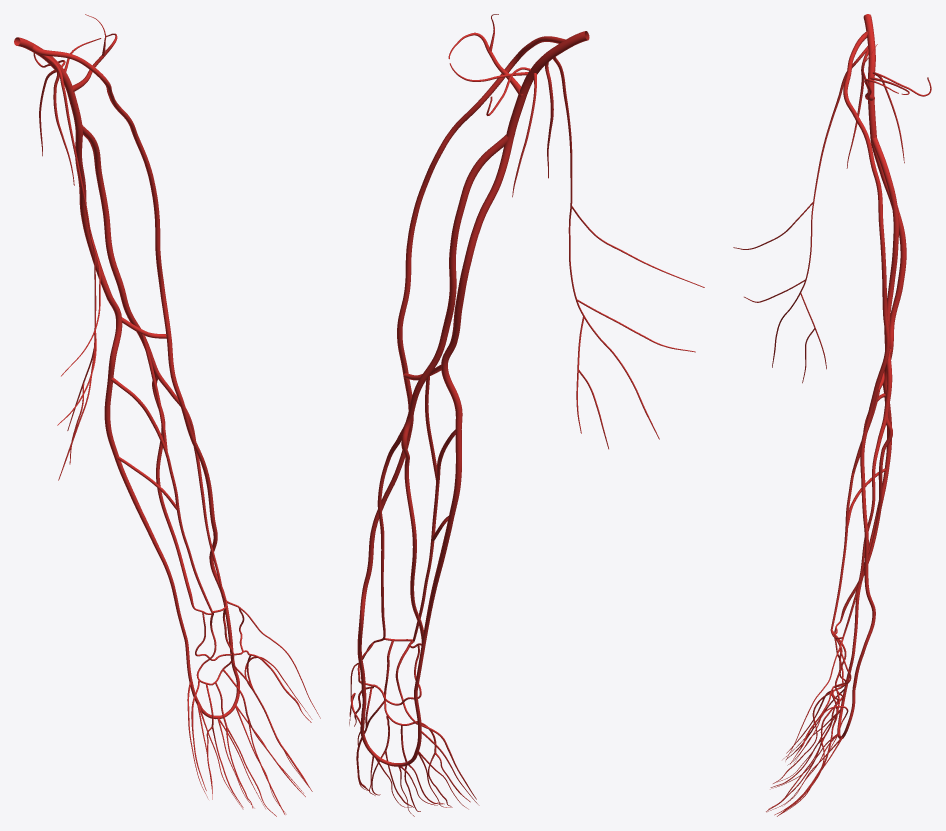
File: circulatorio-axillary-vein-l.glb
3 renders of one model, left to right at view 1: azimuth 30°, elevation 25°; view 2: azimuth 150°, elevation 25°; view 3: azimuth 270°, elevation 25°, orthographic. The views are drawn at different scales.
Visible parts, largest first — view 1: Cephalic vein.l, Basilic vein.l, Palmar digital veins.l, Lateral thoracic vein.l, Brachial veins.l, Dorsal digital veins of hand.l, Median antebrachial vein.l, Ulnar veins.l, Radial veins.l, Axillary vein.l, Median cubital vein.l, Dorsal venous network of hand.l; view 2: Cephalic vein.l, Basilic vein.l, Brachial veins.l, Lateral thoracic vein.l, Palmar digital veins.l, Axillary vein.l, Ulnar veins.l, Dorsal digital veins of hand.l, Median antebrachial vein.l, Radial veins.l, Dorsal venous network of hand.l; view 3: Cephalic vein.l, Basilic vein.l, Brachial veins.l, Palmar digital veins.l, Lateral thoracic vein.l, Dorsal digital veins of hand.l, Axillary vein.l, Ulnar veins.l, Median antebrachial vein.l, Radial veins.l, Dorsal venous network of hand.l.
Boxes of the visible parts, bbox=[...] form: Cephalic vein.l: bbox=[31, 45, 232, 644]; Basilic vein.l: bbox=[75, 127, 187, 639]; Palmar digital veins.l: bbox=[191, 650, 312, 816]; Lateral thoracic vein.l: bbox=[42, 55, 100, 480]; Brachial veins.l: bbox=[82, 125, 156, 368]; Dorsal digital veins of hand.l: bbox=[187, 606, 320, 814]; Median antebrachial vein.l: bbox=[111, 377, 227, 615]; Ulnar veins.l: bbox=[152, 367, 212, 614]; Radial veins.l: bbox=[153, 367, 238, 607]; Axillary vein.l: bbox=[14, 37, 82, 128]; Median cubital vein.l: bbox=[121, 317, 167, 452]; Dorsal venous network of hand.l: bbox=[184, 638, 239, 719]; Cephalic vein.l: bbox=[357, 36, 565, 697]; Basilic vein.l: bbox=[414, 137, 513, 691]; Brachial veins.l: bbox=[407, 134, 508, 418]; Lateral thoracic vein.l: bbox=[553, 57, 704, 449]; Palmar digital veins.l: bbox=[354, 684, 476, 811]; Axillary vein.l: bbox=[506, 31, 589, 137]; Ulnar veins.l: bbox=[401, 417, 423, 648]; Dorsal digital veins of hand.l: bbox=[349, 642, 479, 816]; Median antebrachial vein.l: bbox=[384, 429, 455, 645]; Radial veins.l: bbox=[373, 417, 408, 642]; Dorsal venous network of hand.l: bbox=[360, 690, 421, 766]; Cephalic vein.l: bbox=[843, 31, 889, 688]; Basilic vein.l: bbox=[852, 138, 906, 652]; Brachial veins.l: bbox=[871, 137, 898, 412]; Palmar digital veins.l: bbox=[766, 686, 842, 816]; Lateral thoracic vein.l: bbox=[733, 45, 868, 383]; Dorsal digital veins of hand.l: bbox=[766, 647, 848, 814]; Axillary vein.l: bbox=[863, 14, 876, 138]; Ulnar veins.l: bbox=[835, 412, 892, 633]; Median antebrachial vein.l: bbox=[830, 393, 885, 639]; Radial veins.l: bbox=[839, 412, 888, 647]; Dorsal venous network of hand.l: bbox=[837, 652, 855, 738].
Size of the model in its own units: 0.2666 by 0.6976 by 0.1769.
